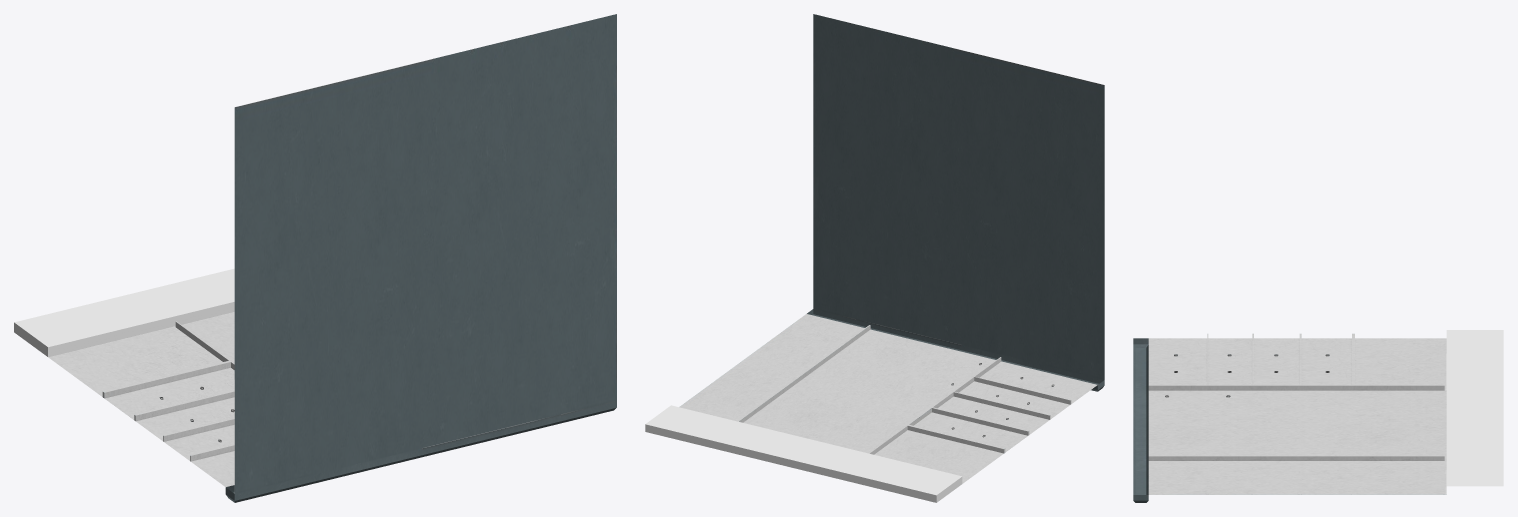
Rendered from cabinet.obj.
The picture shows the model from 3 angles, left to right: view 1: azimuth 30°, elevation 25°; view 2: azimuth 150°, elevation 25°; view 3: azimuth 270°, elevation 25°; orthographic projection. The views are drawn at different scales.
Visible parts, largest first — view 1: encimera2.obj; view 2: encimera2.obj; view 3: encimera2.obj.
Part boxes in pixels (left/top/right/bottom): encimera2.obj: left=14, top=14, right=616, bottom=502; encimera2.obj: left=645, top=14, right=1104, bottom=502; encimera2.obj: left=1133, top=330, right=1503, bottom=502.
Bounding box in the file's own units: 1 × 1 × 1.
Materials: 1 (1 with a texture image).
